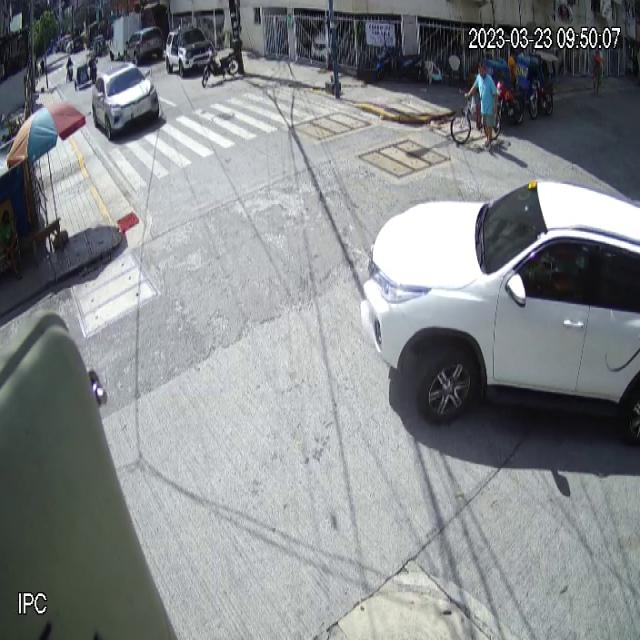Car: (361, 177, 640, 428), (91, 61, 160, 142)
